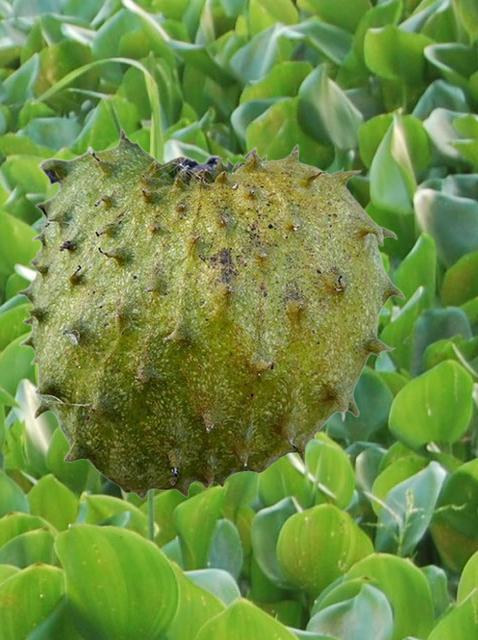guyabano: (16, 127, 405, 498)
